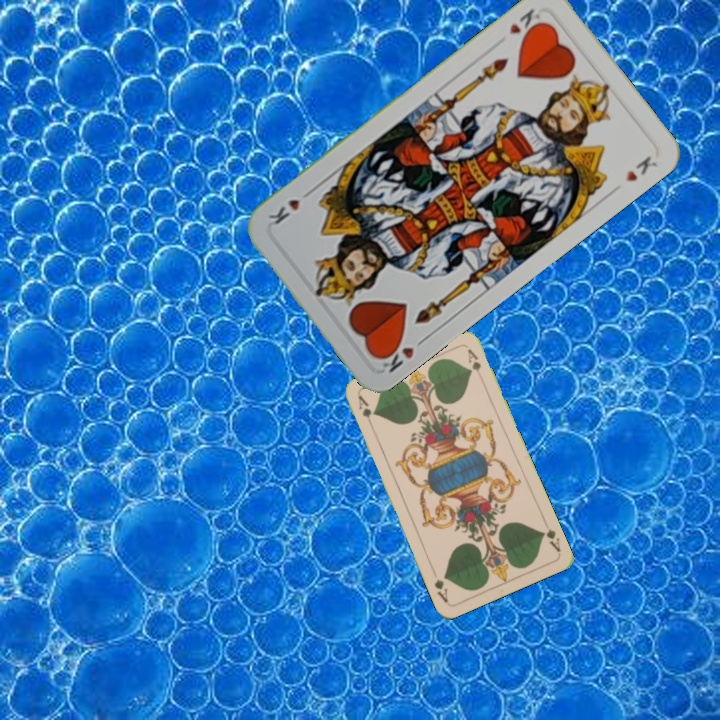GA: (354, 391, 376, 431), (537, 524, 563, 555)
HK: (374, 332, 430, 376), (504, 4, 548, 43)
